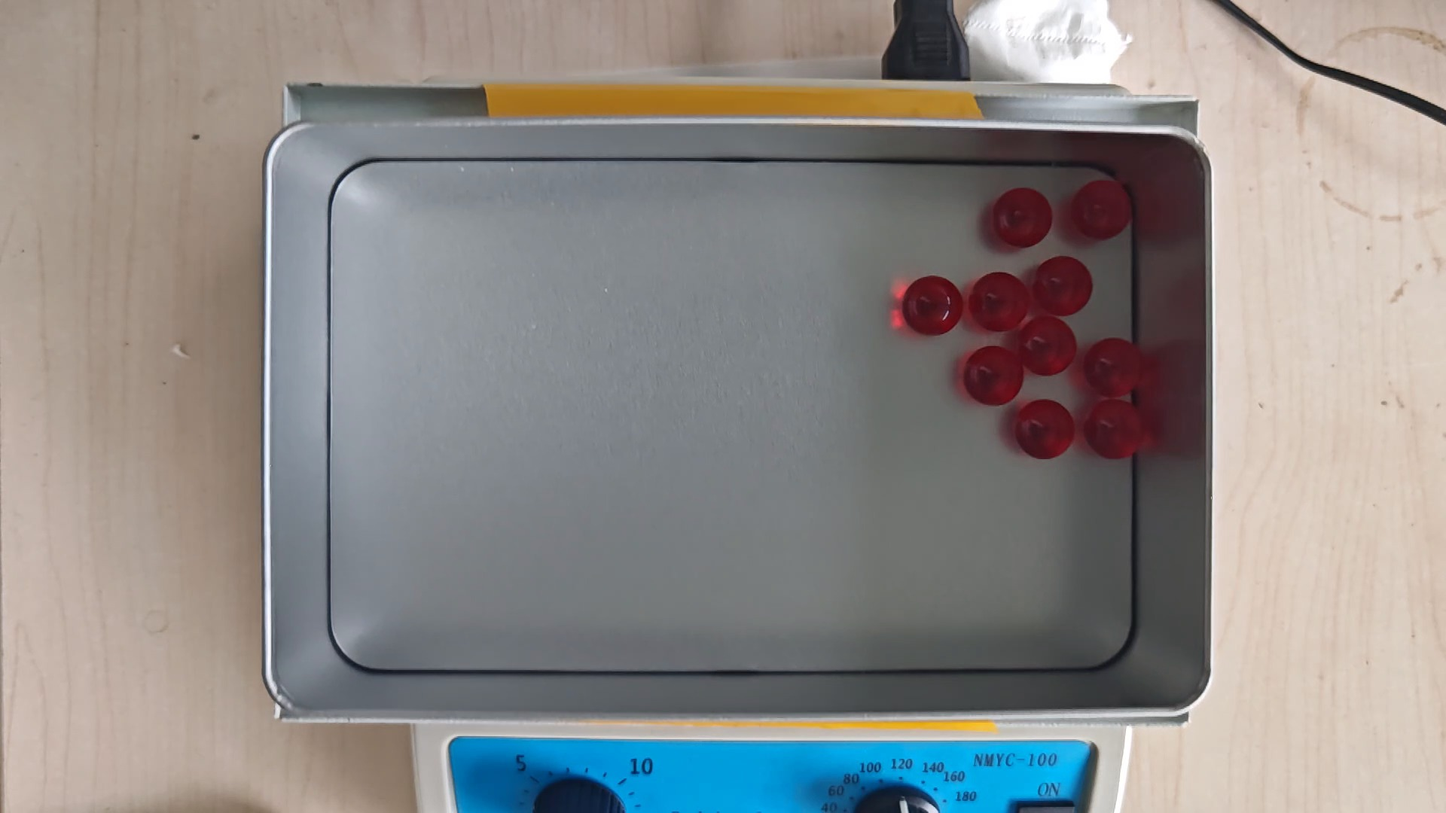ball: (964, 344, 1025, 407), (1015, 398, 1075, 460), (993, 187, 1052, 249), (903, 275, 962, 337), (1085, 337, 1143, 400), (1072, 180, 1132, 240), (1085, 399, 1144, 460), (1018, 315, 1076, 377), (971, 271, 1029, 332), (1034, 256, 1093, 314)
container: (329, 160, 1134, 672)
